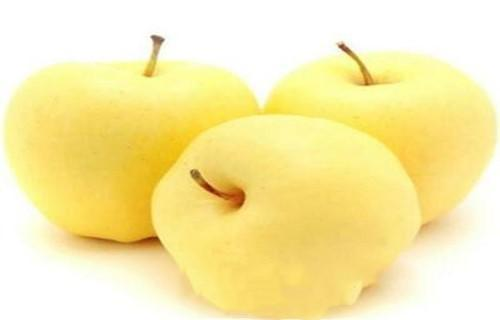apple: (151, 114, 420, 319), (5, 57, 262, 242), (266, 49, 497, 234)
